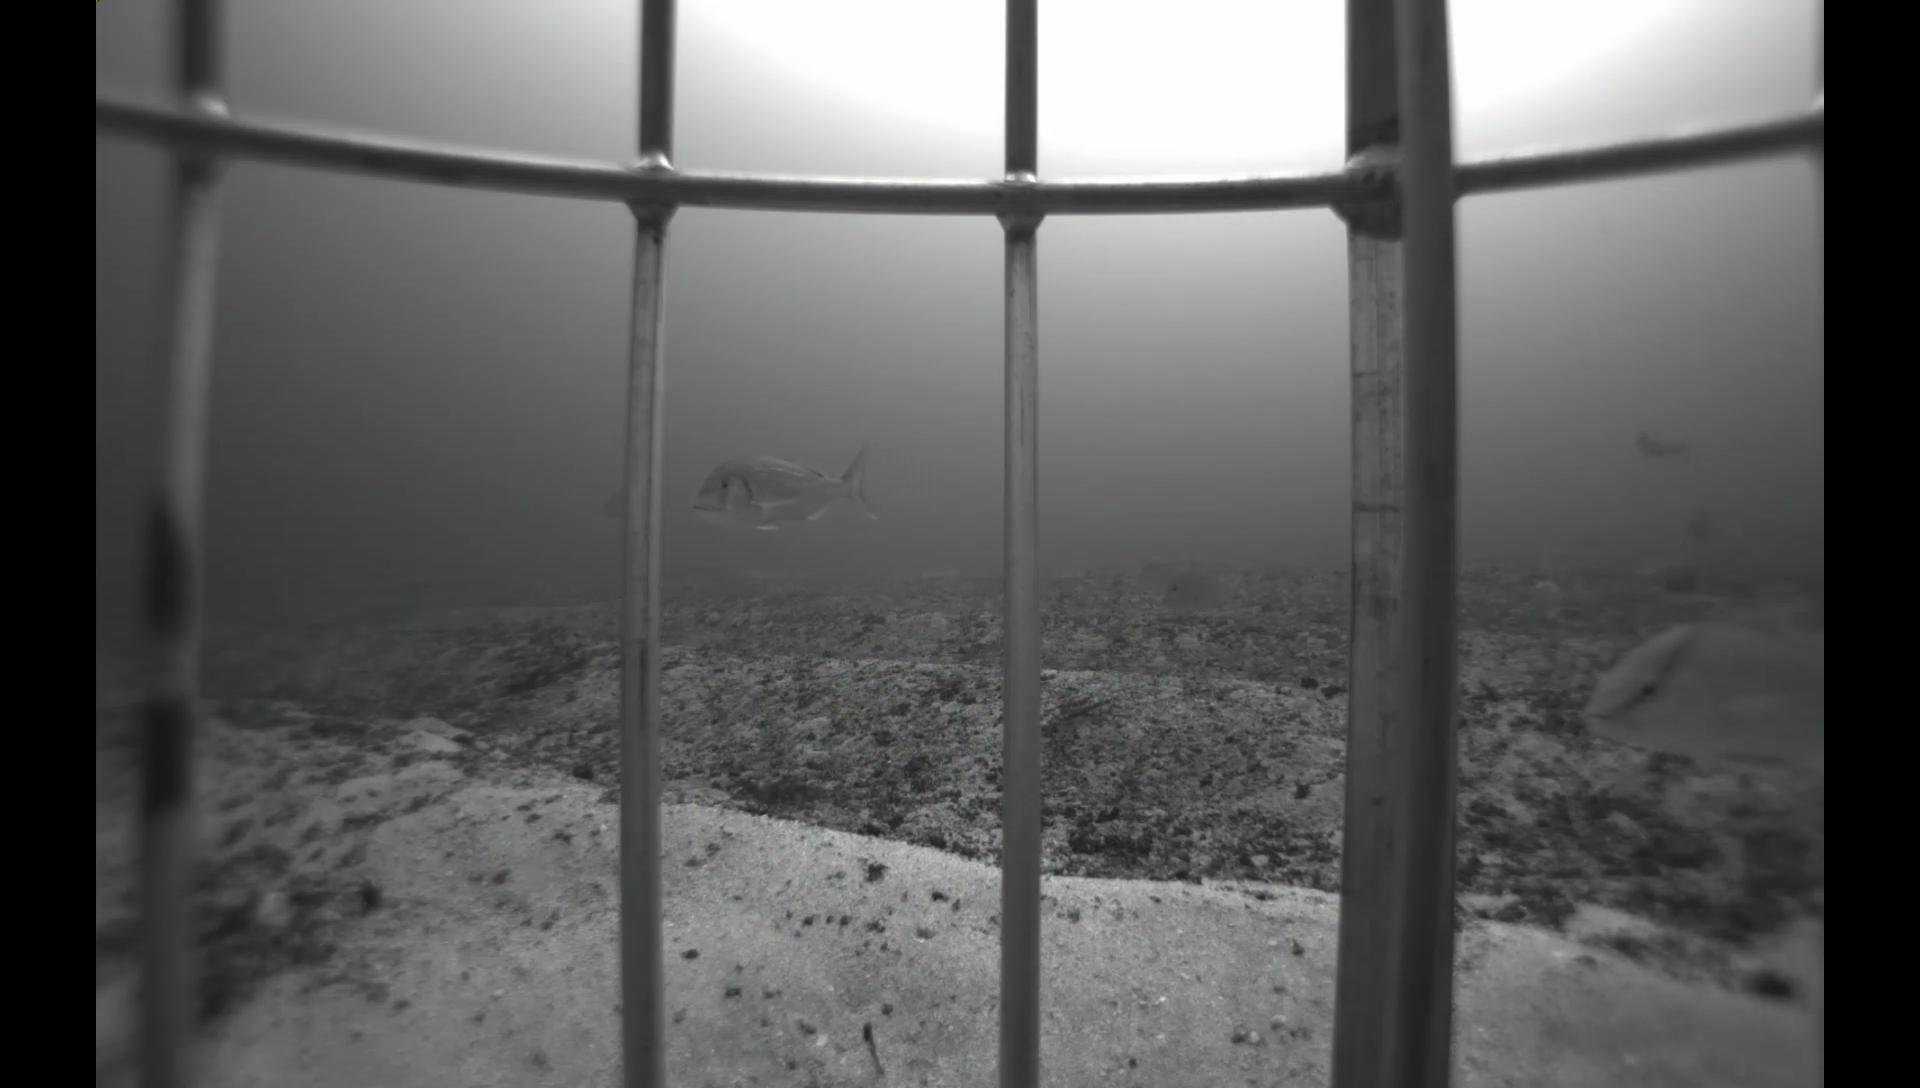CALAMUS-170210600: (1155, 568, 1255, 615), (1127, 559, 1201, 600)
EPINEPHELUSMORIO-170021211: (1675, 502, 1739, 542)
PAGRUSPAGRUS-170212302: (688, 439, 891, 546)
RHOMBOPLITESAURORUBENS-170152001: (1622, 425, 1702, 466)
SERIOLARIVOLIANA-170113105: (1572, 611, 1824, 795)
